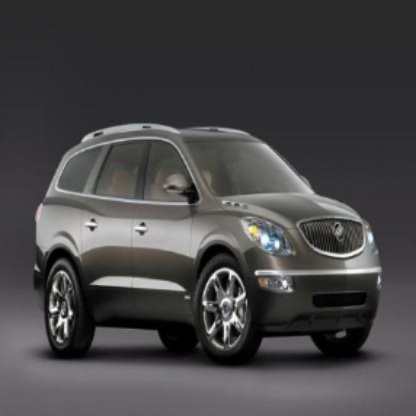Vehicle: (27, 110, 387, 375)
